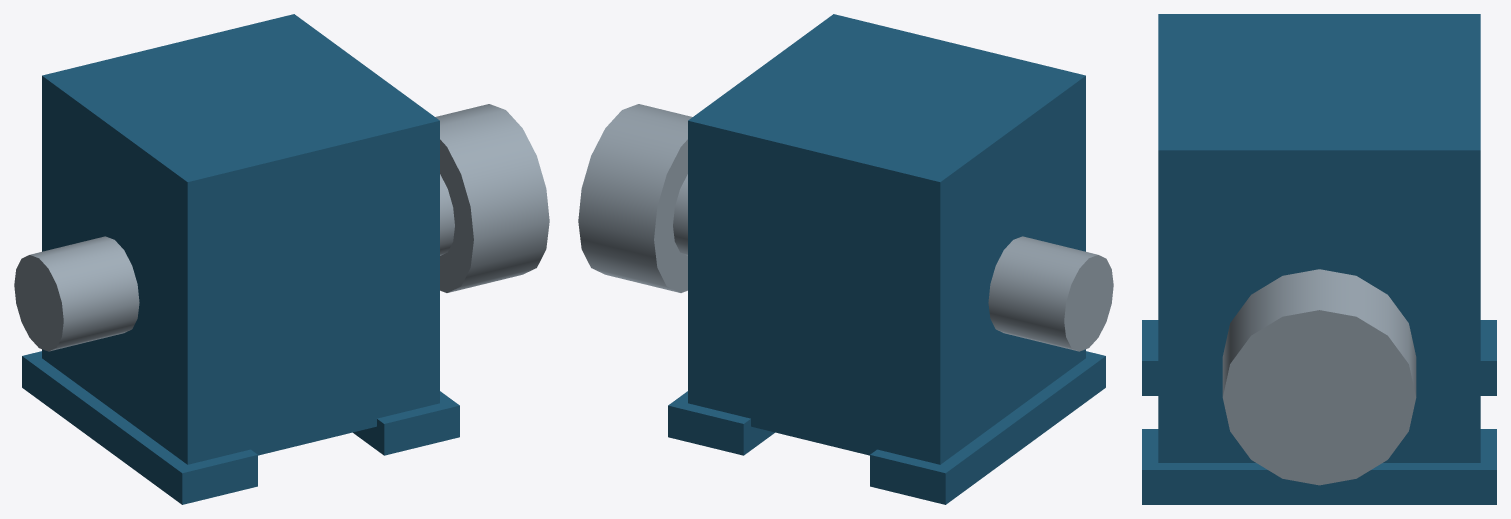
3 renders of one model, left to right at view 1: azimuth 30°, elevation 25°; view 2: azimuth 150°, elevation 25°; view 3: azimuth 270°, elevation 25°, orthographic. The views are drawn at different scales.
Visible parts, largest first — view 1: SEW,减速机(带联轴器),R47 AM80 速比52.69 输出扭矩300Nm安装方式：M1 减速机序号：25.816; view 2: SEW,减速机(带联轴器),R47 AM80 速比52.69 输出扭矩300Nm安装方式：M1 减速机序号：25.816; view 3: SEW,减速机(带联轴器),R47 AM80 速比52.69 输出扭矩300Nm安装方式：M1 减速机序号：25.816.
Boxes of the visible parts, x1,y1,x2,y2 form: SEW,减速机(带联轴器),R47 AM80 速比52.69 输出扭矩300Nm安装方式：M1 减速机序号：25.816: (14,14,549,504); SEW,减速机(带联轴器),R47 AM80 速比52.69 输出扭矩300Nm安装方式：M1 减速机序号：25.816: (578,14,1113,504); SEW,减速机(带联轴器),R47 AM80 速比52.69 输出扭矩300Nm安装方式：M1 减速机序号：25.816: (1142,14,1496,504).
Size of the model in its own units: 0.925 by 0.595 by 0.55.
